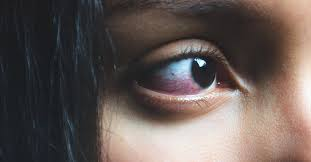pupil: (191, 55, 216, 88)
